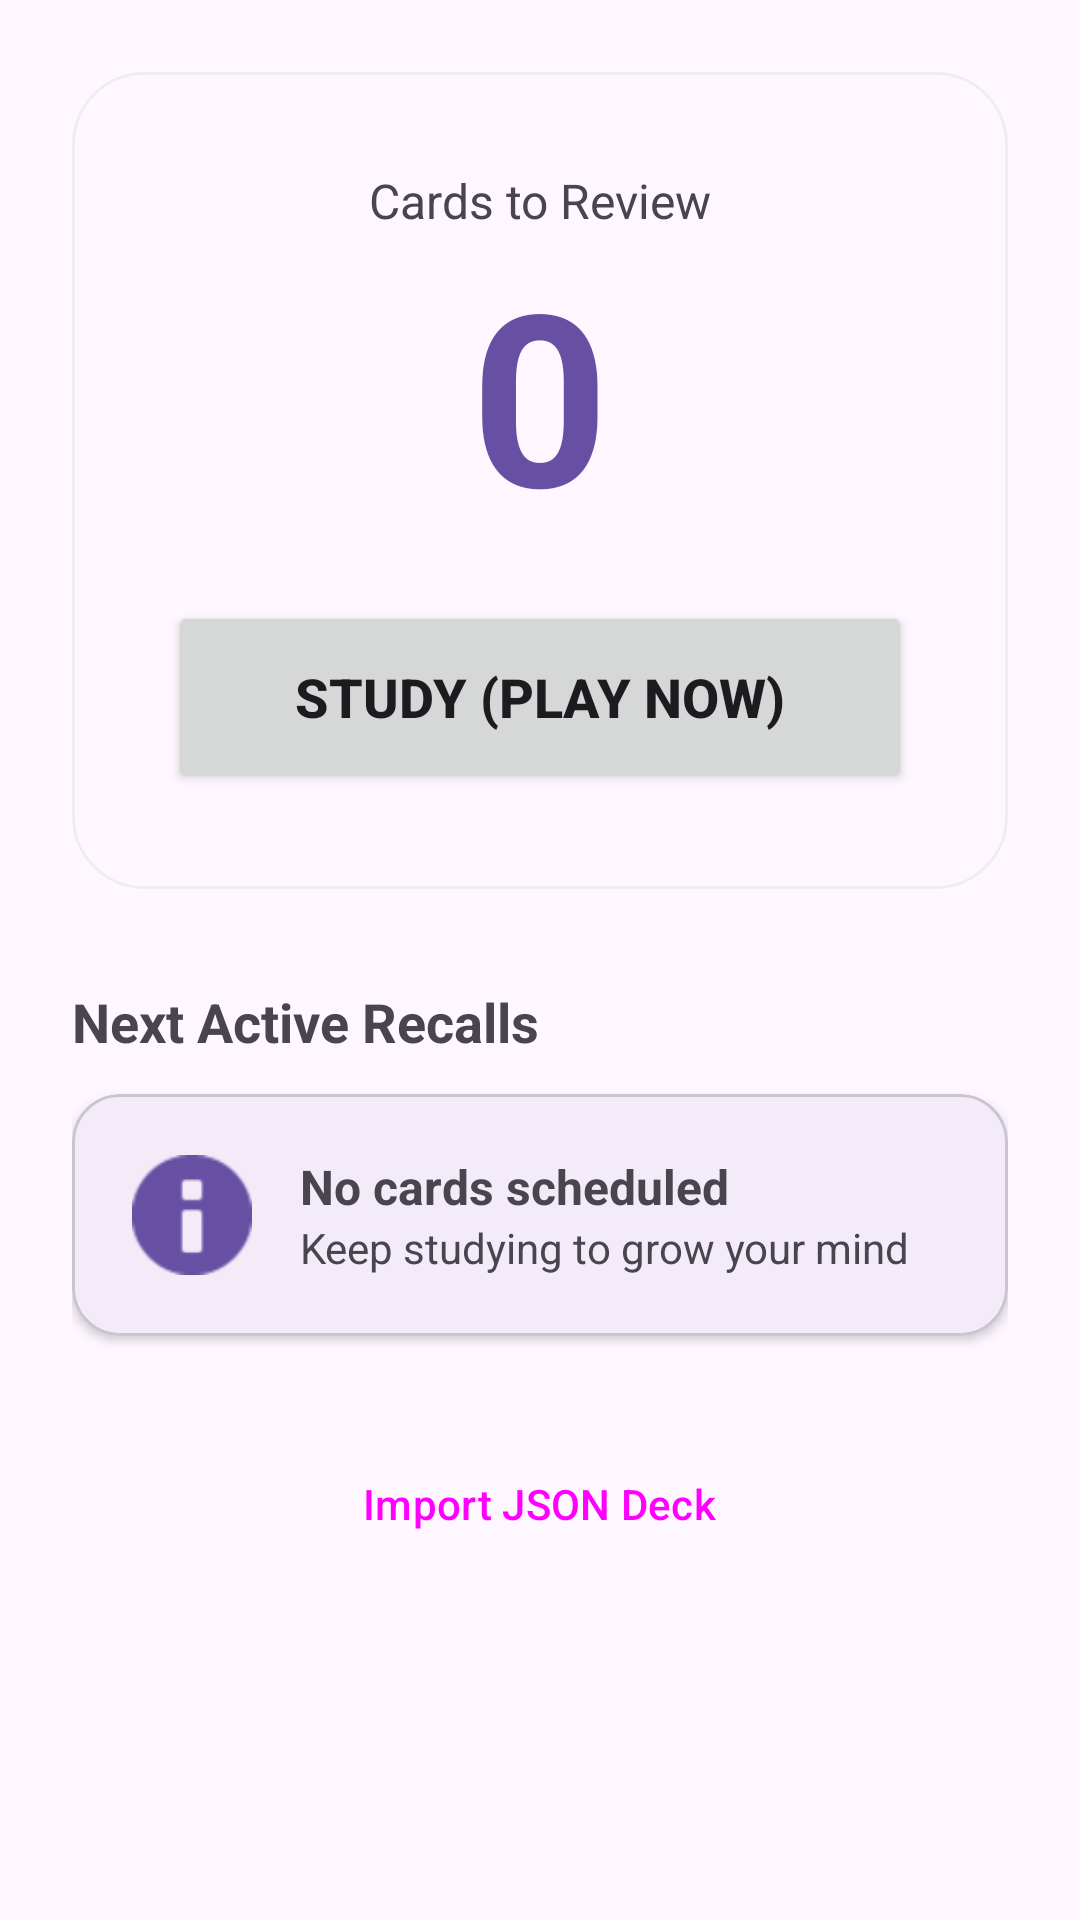

Icons on this 1080w x 1920h Android screen, each with its box as [x1, y1, x2, y2]:
info: [132, 1155, 252, 1275]
